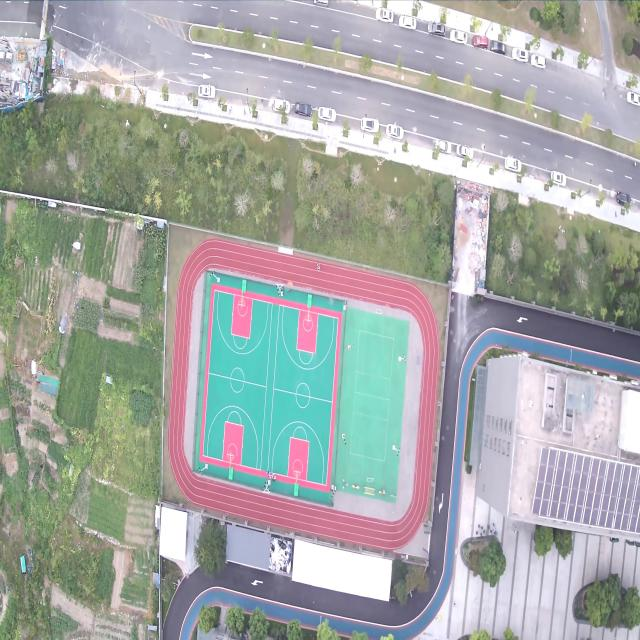drone: (326, 291, 334, 306)
